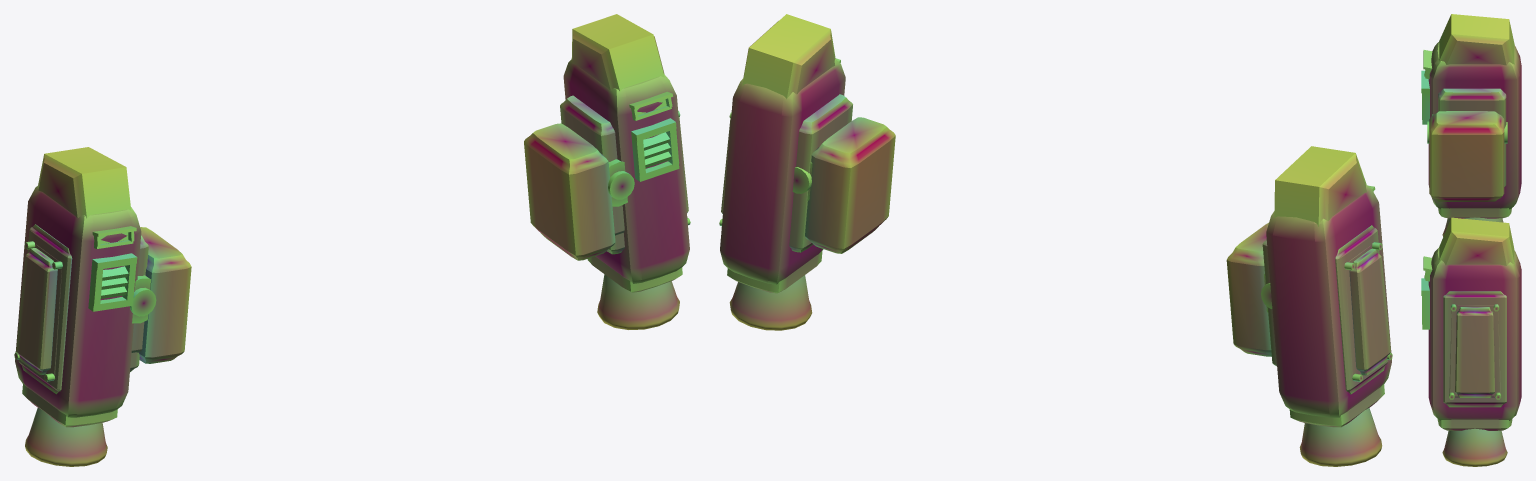
The model's file is llm_gen_leg_thrusters_021_06e89b.glb.
3 views of the same model, side by side, from view 1: azimuth 30°, elevation 25°; view 2: azimuth 150°, elevation 25°; view 3: azimuth 270°, elevation 25° (orthographic). The views are drawn at different scales.
Parts seen in each view (by area): view 1: calf_thruster_hull_1_adapter_dark_l, calf_thruster_hull_1_adapter_dark_r, adapter_calf_clamp_r, adapter_calf_clamp_l, nacelle_upper_cowl_2_amber_optic_r, nacelle_upper_cowl_2_amber_optic_l, nacelle_flank_armor_6_amber_optic_l, calf_main_bell_8_vernier_bell_vernier_l, calf_main_bell_8_vernier_bell_vernier_r, adapter_sub_flank_frame_dark_5_adapter_dark_l, adapter_sub_tank_cradle_dark_0_adapter_dark_r, adapter_sub_nacelle_intake_louver_3_dark_r (+5 smaller); view 2: calf_thruster_hull_1_adapter_dark_l, calf_thruster_hull_1_adapter_dark_r, adapter_calf_clamp_r, nacelle_upper_cowl_2_amber_optic_r, nacelle_upper_cowl_2_amber_optic_l, nacelle_flank_armor_6_amber_optic_l, adapter_calf_clamp_l, calf_main_bell_8_vernier_bell_vernier_l, calf_main_bell_8_vernier_bell_vernier_r, adapter_sub_tank_cradle_dark_0_adapter_dark_r, adapter_sub_flank_frame_dark_5_adapter_dark_l, adapter_sub_nozzle_shroud_dark_7_adapter_dark_l (+1 smaller); view 3: calf_thruster_hull_1_adapter_dark_r, adapter_calf_clamp_l, calf_thruster_hull_1_adapter_dark_l, nacelle_flank_armor_6_amber_optic_r, nacelle_upper_cowl_2_amber_optic_l, nacelle_upper_cowl_2_amber_optic_r, adapter_sub_flank_frame_dark_5_adapter_dark_r, calf_main_bell_8_vernier_bell_vernier_r, adapter_sub_tank_cradle_dark_0_adapter_dark_l, adapter_sub_nozzle_shroud_dark_7_adapter_dark_r, adapter_sub_nozzle_shroud_dark_7_adapter_dark_l, adapter_sub_nacelle_intake_louver_3_dark_r (+5 smaller).
Part boxes in pixels (x1,y1,x2,y2): calf_thruster_hull_1_adapter_dark_l: (15,185,141,417); calf_thruster_hull_1_adapter_dark_r: (563,58,689,283); adapter_calf_clamp_r: (524,123,627,260); adapter_calf_clamp_l: (131,227,191,363); nacelle_upper_cowl_2_amber_optic_r: (571,14,664,91); nacelle_upper_cowl_2_amber_optic_l: (38,147,131,218); nacelle_flank_armor_6_amber_optic_l: (14,241,62,381); calf_main_bell_8_vernier_bell_vernier_l: (25,407,107,466); calf_main_bell_8_vernier_bell_vernier_r: (597,274,679,329); adapter_sub_flank_frame_dark_5_adapter_dark_l: (18,224,72,394); adapter_sub_tank_cradle_dark_0_adapter_dark_r: (560,95,624,254); adapter_sub_nacelle_intake_louver_3_dark_r: (631,118,679,181); calf_thruster_hull_1_adapter_dark_l: (1266,184,1391,417); calf_thruster_hull_1_adapter_dark_r: (720,59,845,284); adapter_calf_clamp_r: (805,117,895,253); nacelle_upper_cowl_2_amber_optic_r: (742,14,835,99); nacelle_upper_cowl_2_amber_optic_l: (1274,146,1366,226); nacelle_flank_armor_6_amber_optic_l: (1344,242,1392,381); adapter_calf_clamp_l: (1226,222,1271,356); calf_main_bell_8_vernier_bell_vernier_l: (1299,408,1382,466); calf_main_bell_8_vernier_bell_vernier_r: (729,275,812,330); adapter_sub_tank_cradle_dark_0_adapter_dark_r: (789,94,852,252); adapter_sub_flank_frame_dark_5_adapter_dark_l: (1335,225,1388,394); adapter_sub_nozzle_shroud_dark_7_adapter_dark_l: (1289,384,1384,427); calf_thruster_hull_1_adapter_dark_r: (1428,247,1521,420); adapter_calf_clamp_l: (1429,111,1504,201); calf_thruster_hull_1_adapter_dark_l: (1428,42,1521,209); nacelle_flank_armor_6_amber_optic_r: (1449,304,1501,399); nacelle_upper_cowl_2_amber_optic_l: (1439,14,1514,65); nacelle_upper_cowl_2_amber_optic_r: (1438,217,1514,265); adapter_sub_flank_frame_dark_5_adapter_dark_r: (1443,291,1506,407); calf_main_bell_8_vernier_bell_vernier_r: (1442,428,1507,466); adapter_sub_tank_cradle_dark_0_adapter_dark_l: (1438,88,1506,186); adapter_sub_nozzle_shroud_dark_7_adapter_dark_r: (1437,419,1512,430); adapter_sub_nozzle_shroud_dark_7_adapter_dark_l: (1438,208,1511,218); adapter_sub_nacelle_intake_louver_3_dark_r: (1421,278,1429,329).
Size of the model in its own units: 85.78 by 36.81 by 14.73.
